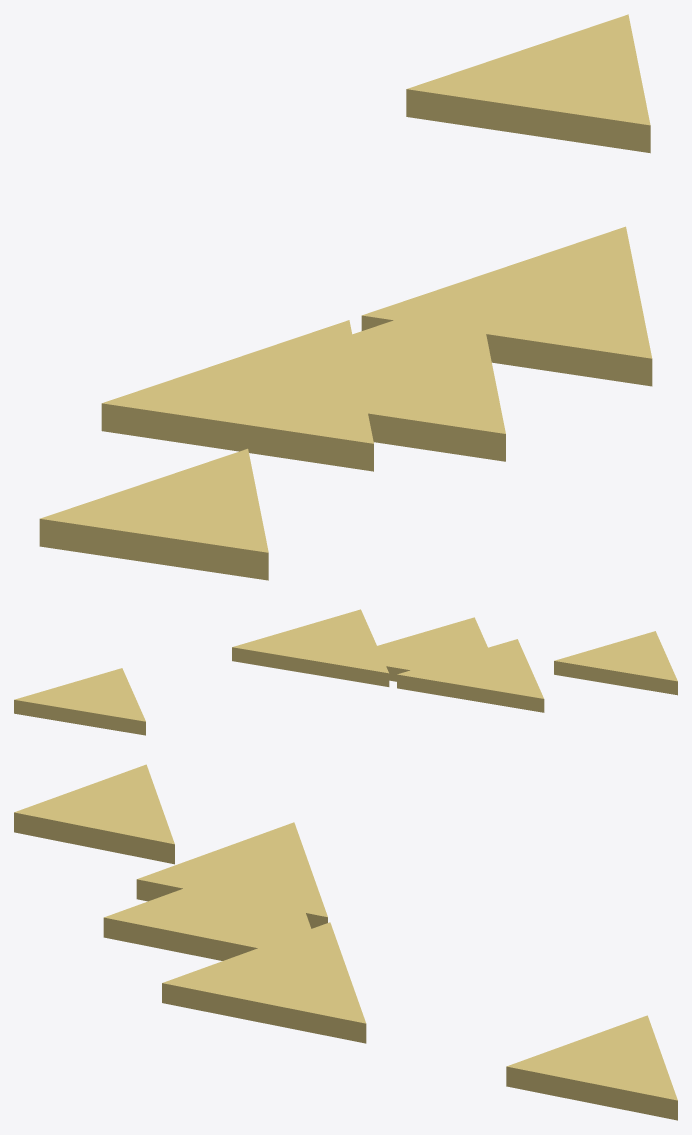
Rendered from paintball_shell_shards.glb.
3 views of the same model, one above another, from view 1: azimuth 30°, elevation 25°; view 2: azimuth 150°, elevation 25°; view 3: azimuth 270°, elevation 25° (orthographic). The views are drawn at different scales.
Parts seen in each view (by area): view 1: paintball_shell_shards; view 2: paintball_shell_shards; view 3: paintball_shell_shards.
Boxes of the visible parts, bbox=[...] form: paintball_shell_shards: bbox=[39, 14, 652, 580]; paintball_shell_shards: bbox=[14, 609, 677, 735]; paintball_shell_shards: bbox=[14, 764, 677, 1120].
Size of the model in its own units: 0.0433 by 0.0012 by 0.0362.
